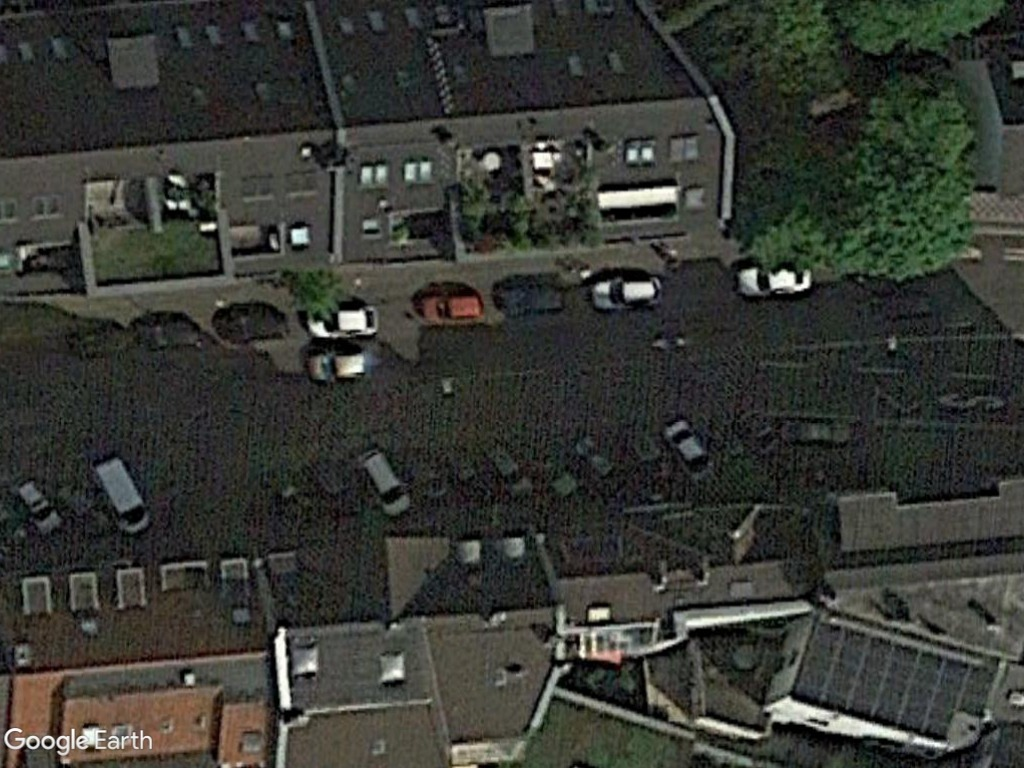car: (356, 444, 415, 522), (584, 271, 668, 313), (412, 290, 485, 328)
van: (96, 453, 154, 539)
